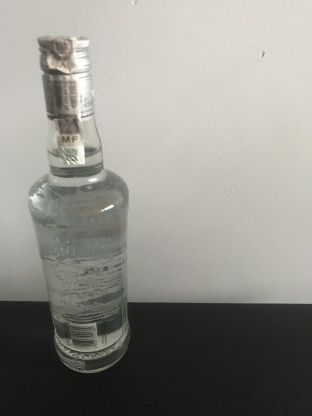nakretka: (35, 32, 97, 122)
